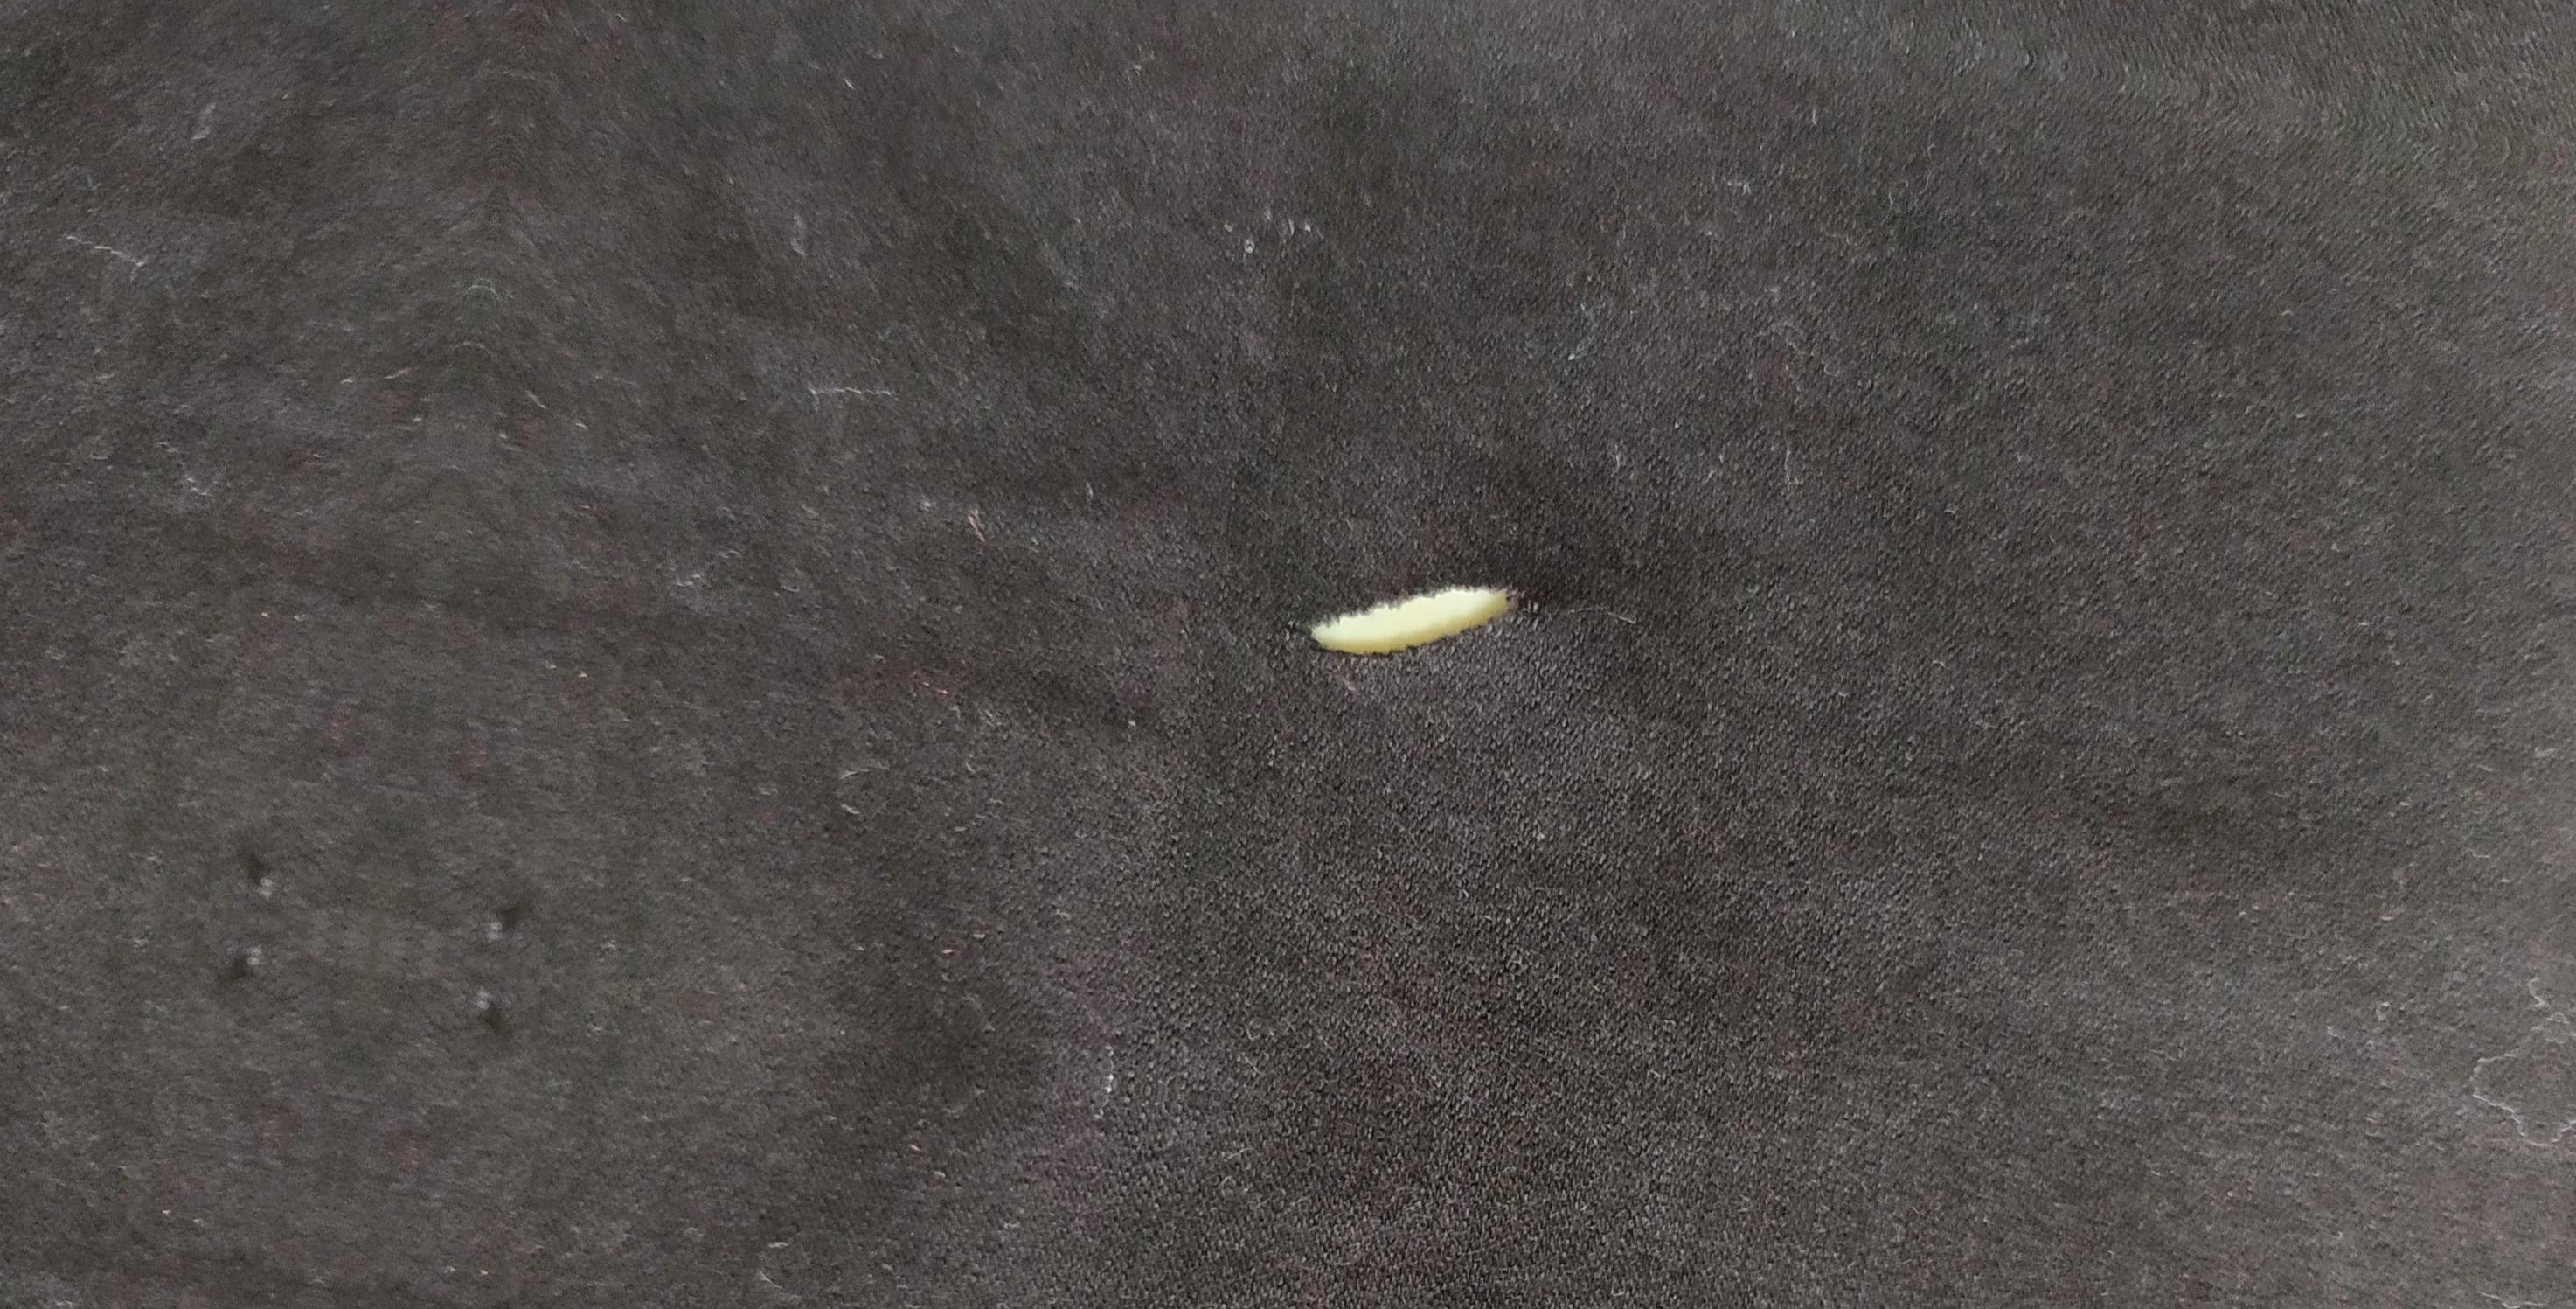hole: (1276, 553, 1567, 695)
